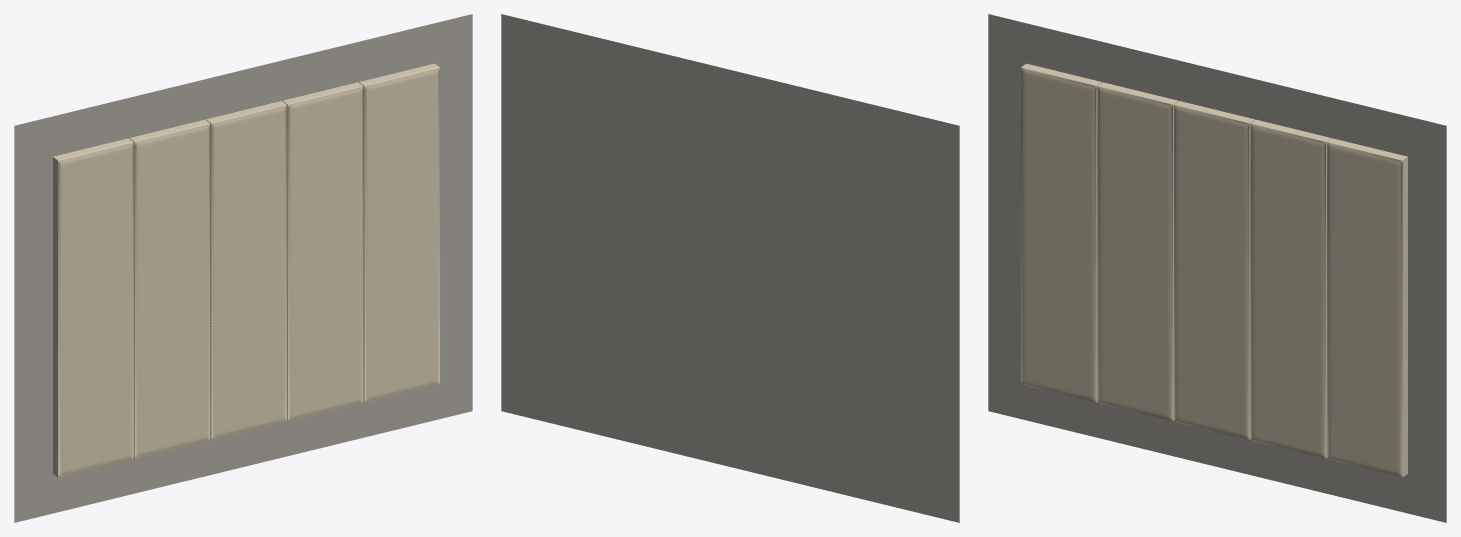
The model's file is terilgan.glb.
3 renders of one model, left to right at view 1: azimuth 30°, elevation 25°; view 2: azimuth 150°, elevation 25°; view 3: azimuth 330°, elevation 25°, orthographic.
Visible parts, largest first — view 1: Plane, t0_0, t0_3, t0_1, t0_4, t0_2; view 2: Plane; view 3: Plane, t0_4, t0_1, t0_3, t0_0, t0_2.
Boxes of the visible parts, box(x1,y1,x2,y2) form: Plane: box(14, 14, 472, 522); t0_0: box(53, 138, 133, 477); t0_3: box(282, 82, 363, 421); t0_1: box(129, 119, 210, 458); t0_4: box(359, 63, 440, 402); t0_2: box(206, 101, 286, 439); Plane: box(501, 14, 959, 522); Plane: box(988, 14, 1446, 522); t0_4: box(1327, 138, 1407, 477); t0_1: box(1097, 82, 1178, 421); t0_3: box(1250, 119, 1331, 458); t0_0: box(1020, 63, 1101, 402); t0_2: box(1174, 101, 1254, 439).
Size of the model in its own units: 1.82 by 1.5 by 0.0419.
